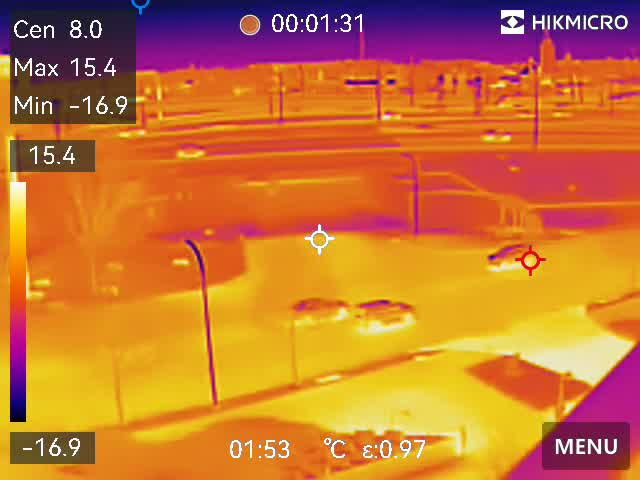largeCar: (482, 242, 540, 269)
smallCar: (353, 299, 420, 331), (287, 294, 352, 321)
vehicle: (474, 131, 518, 144), (114, 126, 152, 140), (172, 144, 207, 159), (548, 106, 576, 121), (376, 107, 403, 119), (509, 111, 536, 123)
